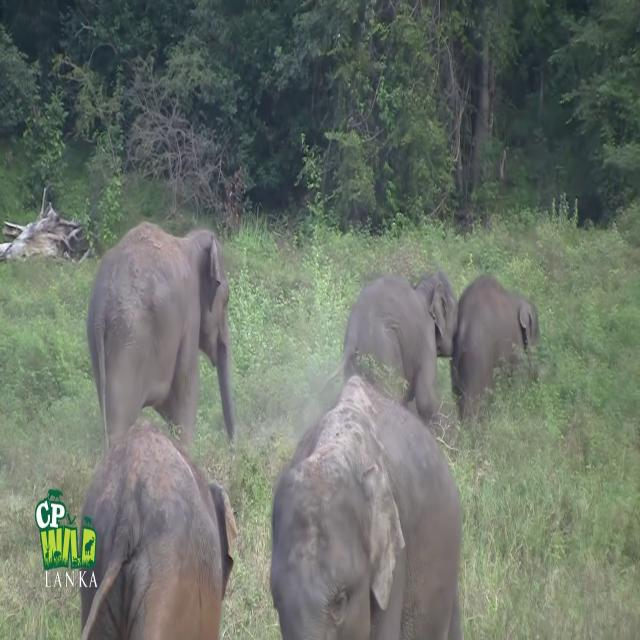Elephant: (269, 373, 463, 640), (86, 220, 236, 456), (79, 418, 238, 639), (319, 268, 458, 428), (450, 272, 540, 425)
